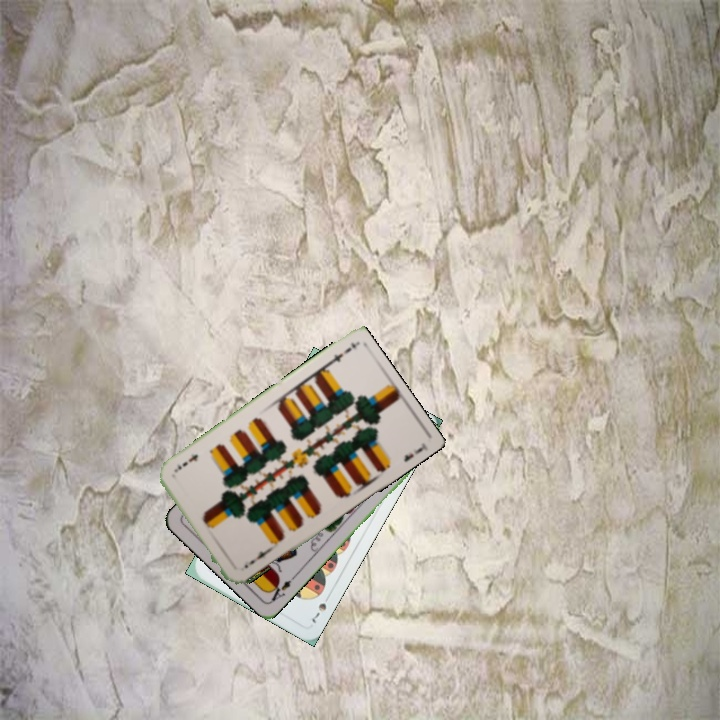E7: (240, 545, 272, 571), (322, 343, 354, 369)
EA: (264, 571, 298, 604)
S7: (308, 590, 333, 626)
